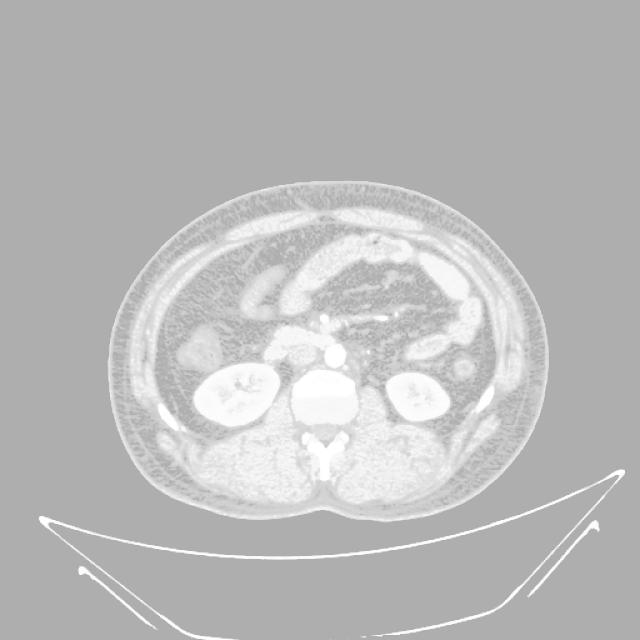NORMAL: (97, 166, 554, 560)
